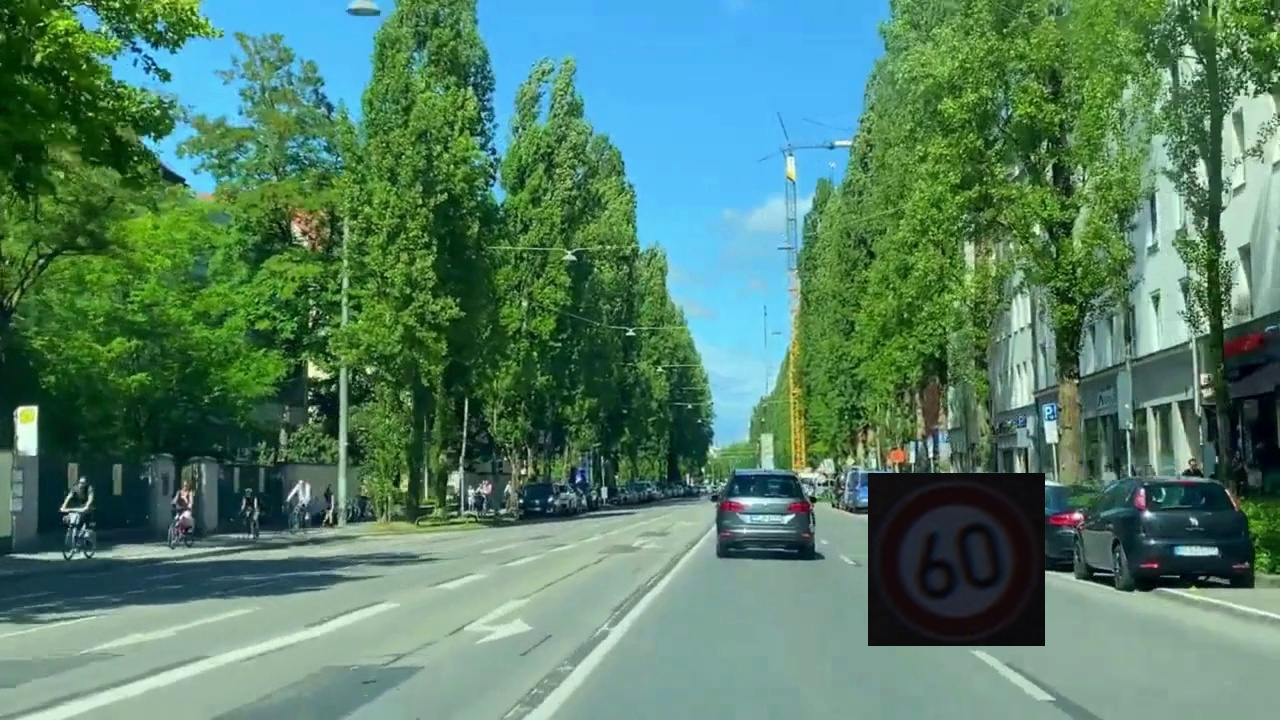Speed 60: (868, 473, 1045, 646)
